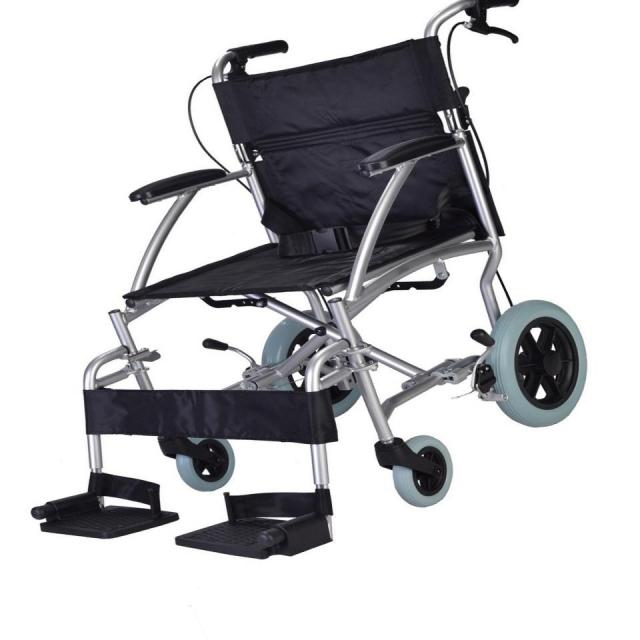wheelchair: (27, 0, 592, 566)
